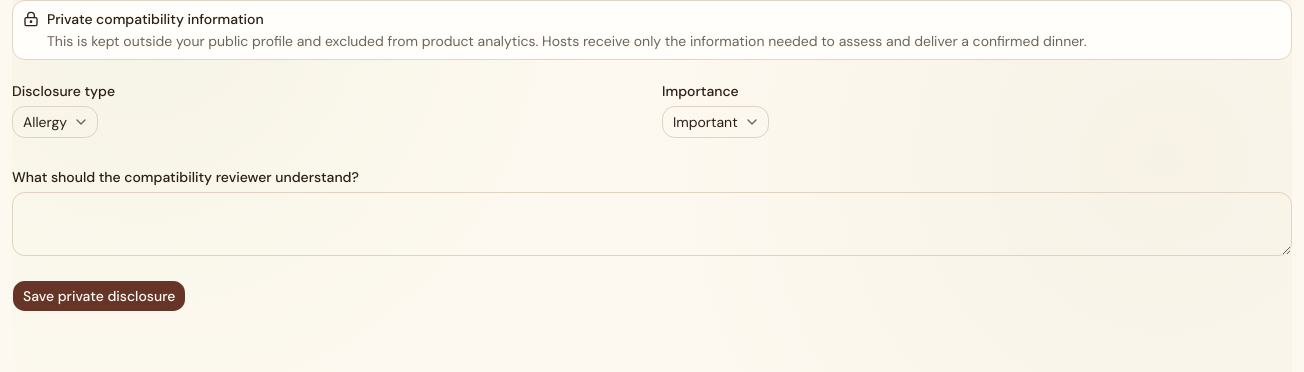
dietary disclosure privacy › records a private disclosure while analytics receive only safe booleans
This screenshot has width=1304, height=372.
Type "Severe sesame allergy; cross-contact must be assessed." into the text box labelled "What should the compatibility reviewer understand?" at (652, 224), box top-left (12, 192), bottom-right (1292, 256)
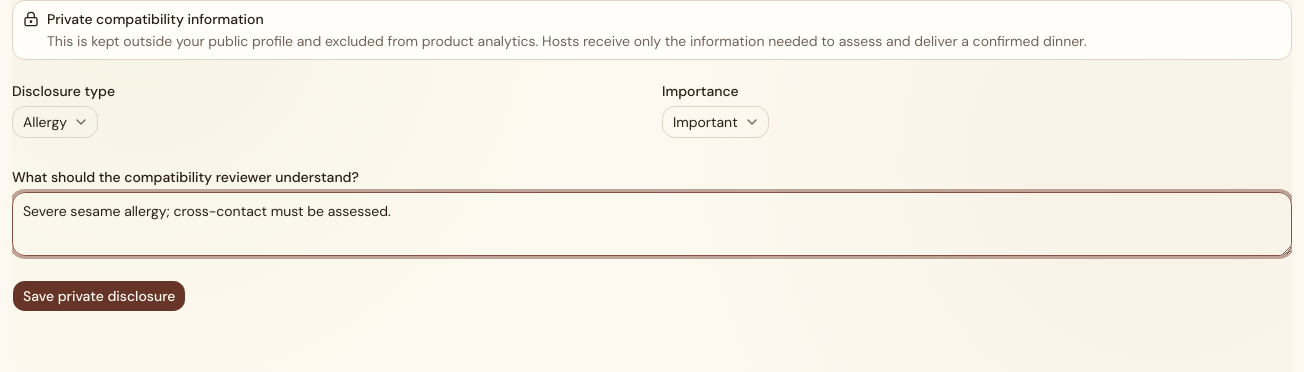
Click the button "Save private disclosure" at (99, 296), box top-left (12, 280), bottom-right (186, 312)
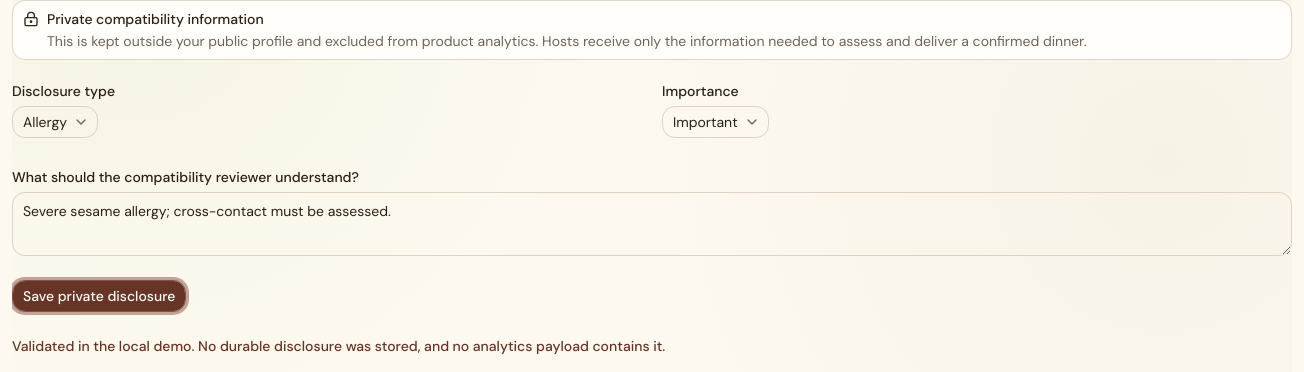
Check: the 2nd message shows "no analytics payload", box top-left (12, 337), bottom-right (665, 355)
